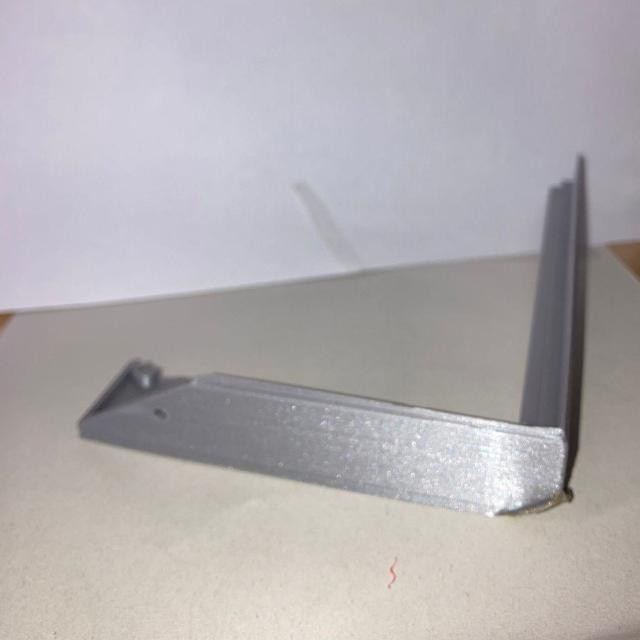Warping: (490, 492, 570, 528)
